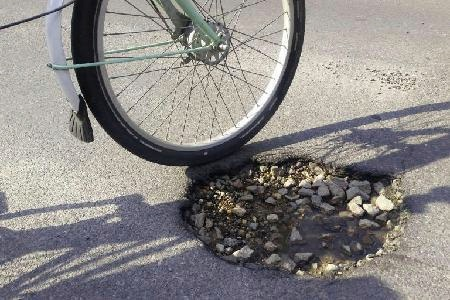pothole: (176, 153, 408, 277)
